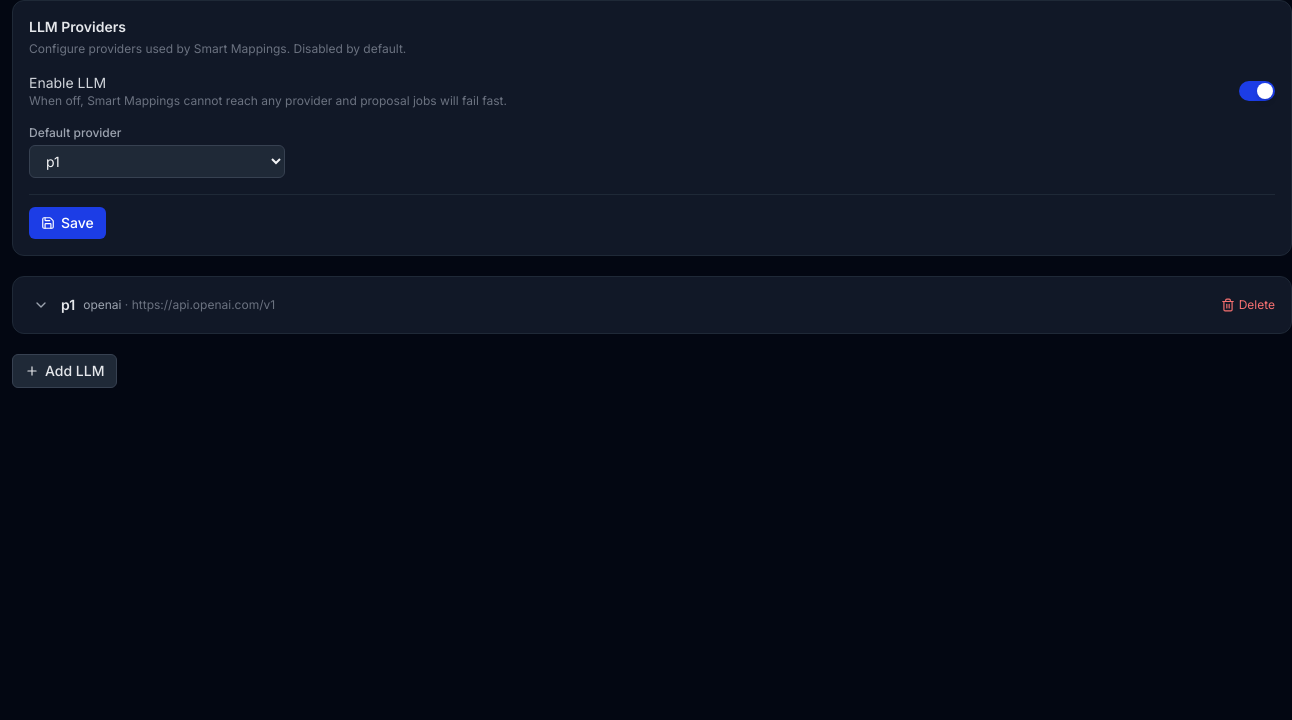
Test: ProviderCard (027 step 5: Discover-then-Probe per-card surface) › editing a field clears the probe-OK pill but keeps Save enabled (prompts-033 decision A: Save is the orchestrator)
Expected: the heading "p1" is shown, [61, 295, 75, 315]
Click the button named "Expand p1" at (41, 305), box [29, 293, 53, 317]
(page scrolled)
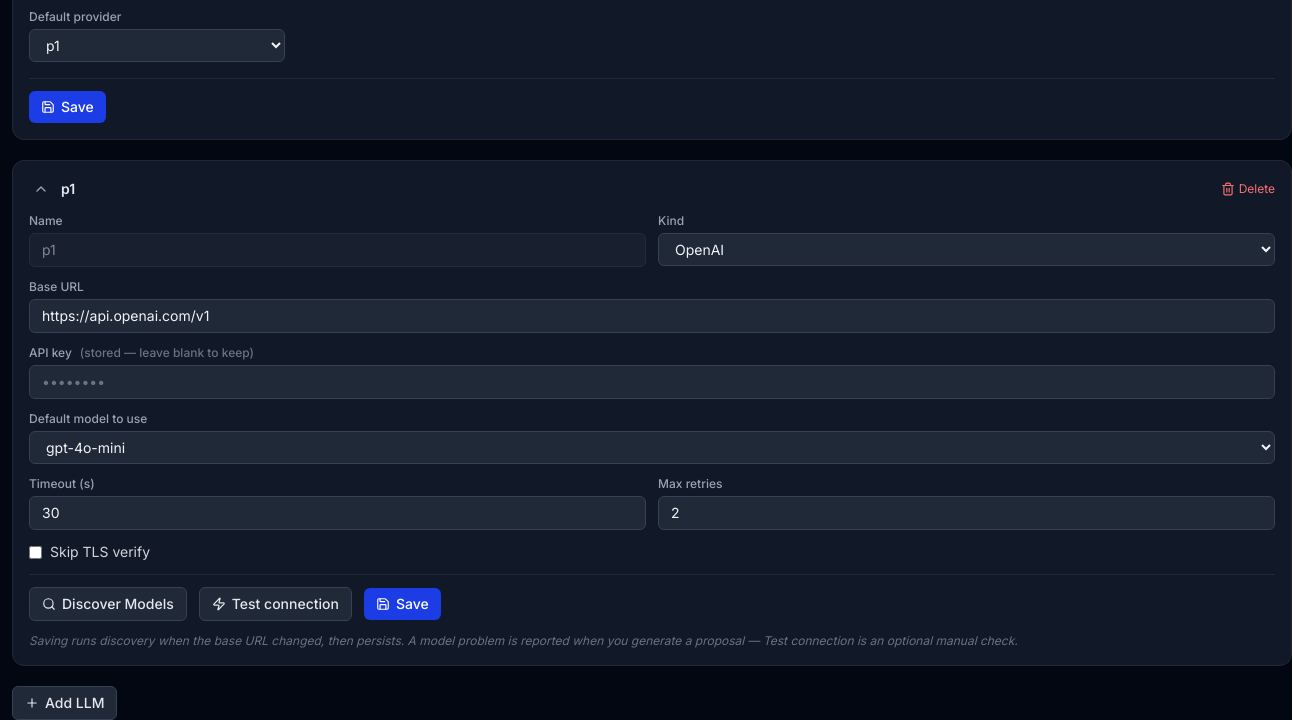
Click the button "Test connection" at (275, 604), box [199, 587, 352, 621]
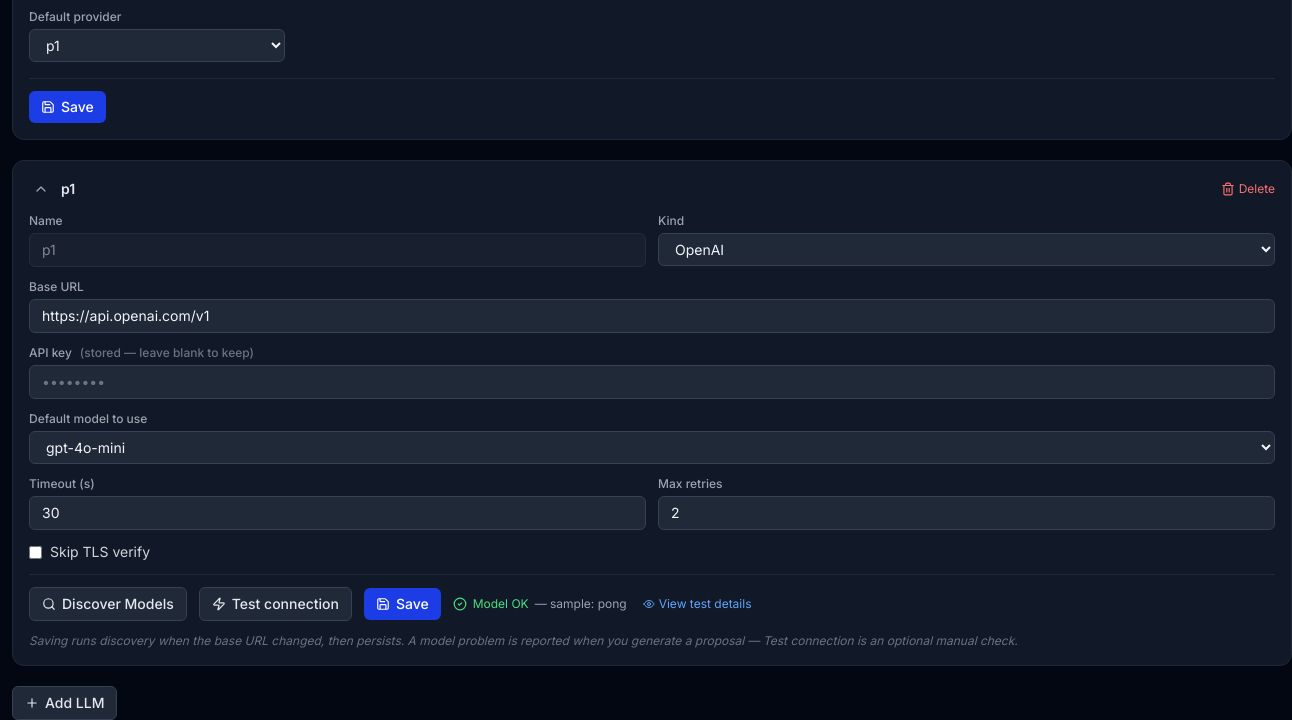
Expected: the button "Save" next to "Model OK" is enabled, [364, 588, 441, 620]
Expected: the element with test id "card-probe-ok" is shown, [453, 596, 627, 612]
Select "gpt-4o" in the dropdown labelled "Default model to use" at (652, 448), box [29, 431, 1275, 464]
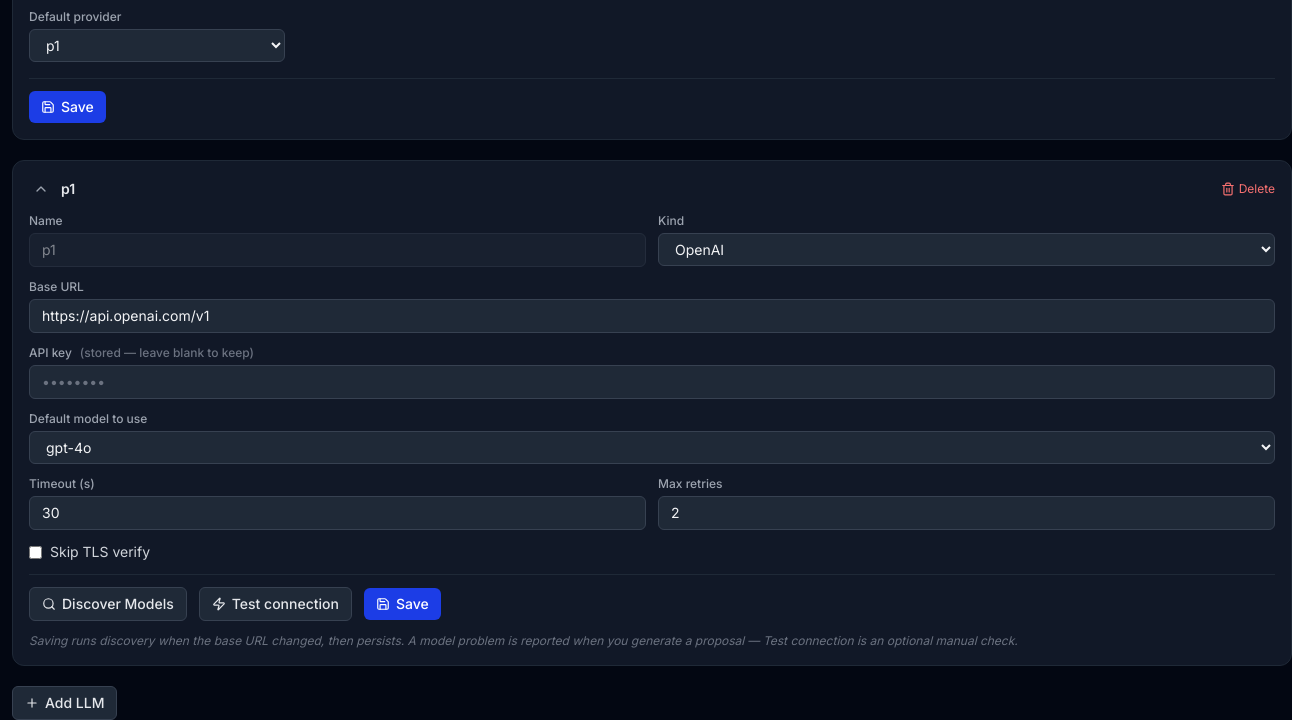
Expected: the button "Save" below "Skip TLS verify" is enabled, [364, 588, 441, 620]
Expected: the element with test id "card-probe-ok" is gone
